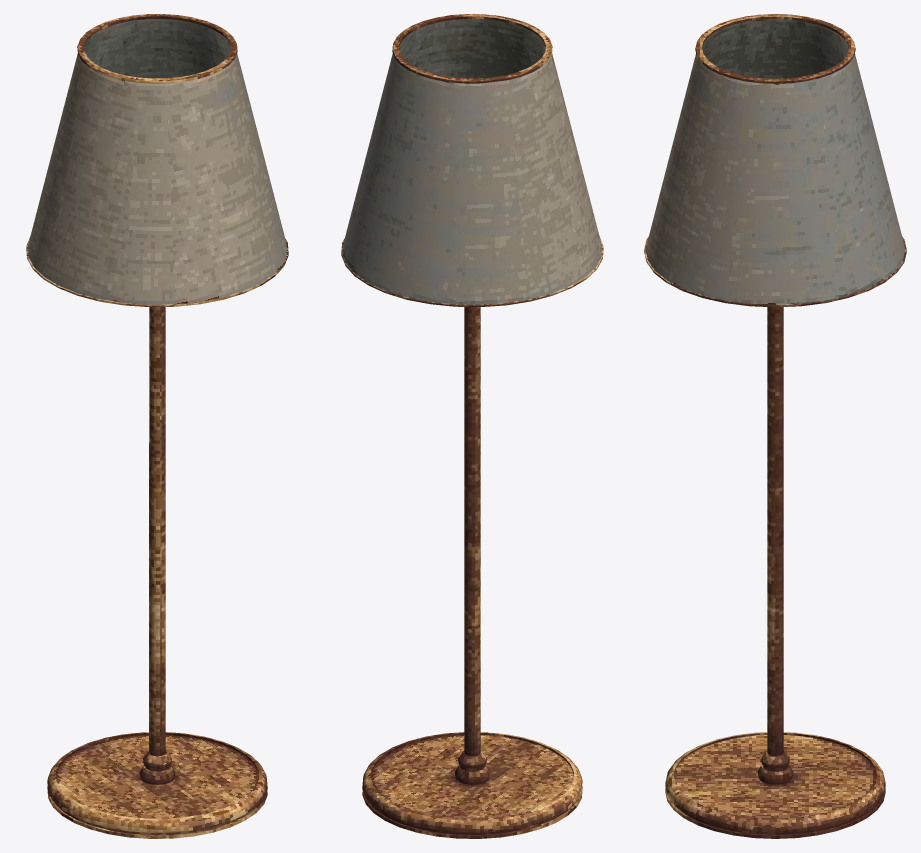
Rendered from fringe_floor_lamp.glb.
The picture shows the model from 3 angles, left to right: view 1: azimuth 30°, elevation 25°; view 2: azimuth 150°, elevation 25°; view 3: azimuth 270°, elevation 25°; orthographic projection.
Visible parts, largest first — view 1: fringe_floor_lamp_src; view 2: fringe_floor_lamp_src; view 3: fringe_floor_lamp_src.
Part boxes in pixels (x1,y1,x2,y2): fringe_floor_lamp_src: (26, 14, 288, 838); fringe_floor_lamp_src: (341, 14, 603, 838); fringe_floor_lamp_src: (644, 14, 906, 838).
Size of the model in its own units: 0.7517 by 2.35 by 0.7517.
3 materials, 3 textured.
